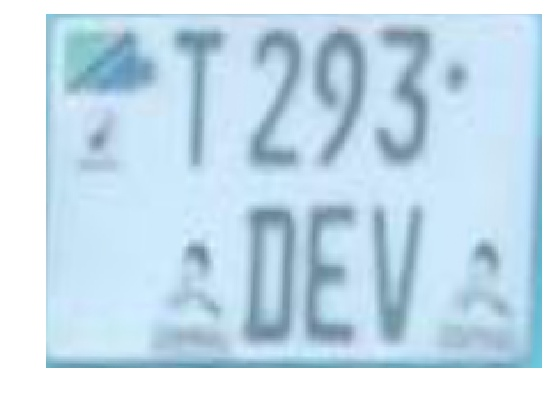T: (165, 22, 236, 180)
